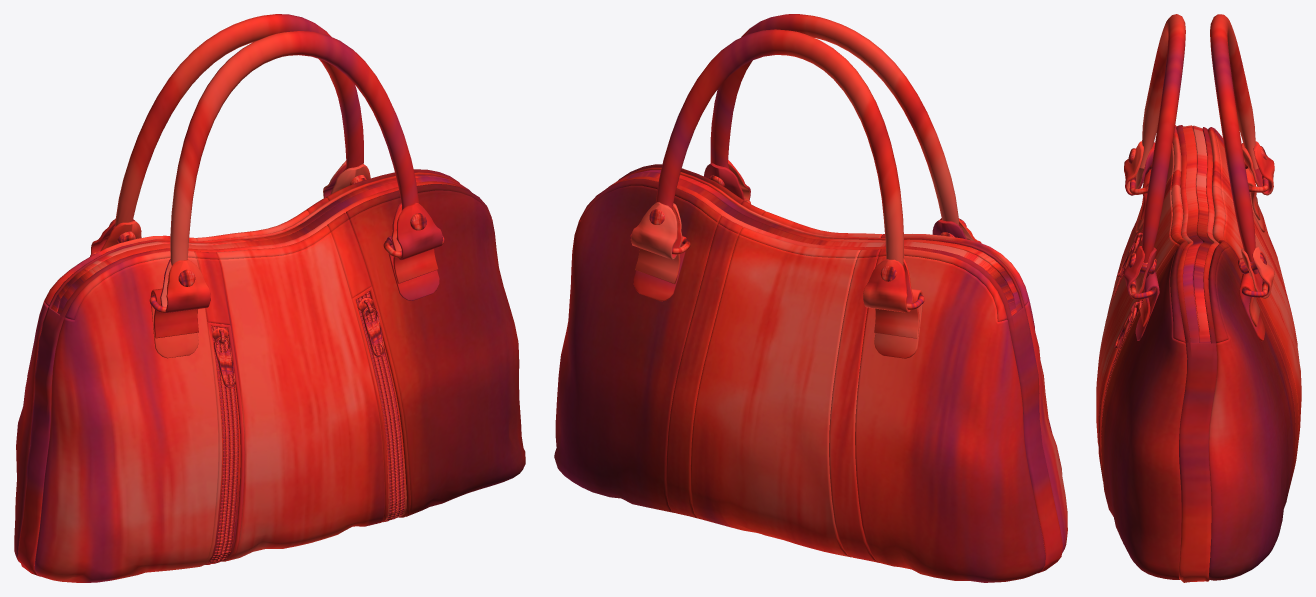
Rendered from bag2.obj.
3 views of the same model, side by side, from view 1: azimuth 30°, elevation 25°; view 2: azimuth 150°, elevation 25°; view 3: azimuth 270°, elevation 25° (orthographic). The views are drawn at different scales.
Bounding box in the file's own units: 11.56 × 11.23 × 4.54.
1 material, 1 textured.
